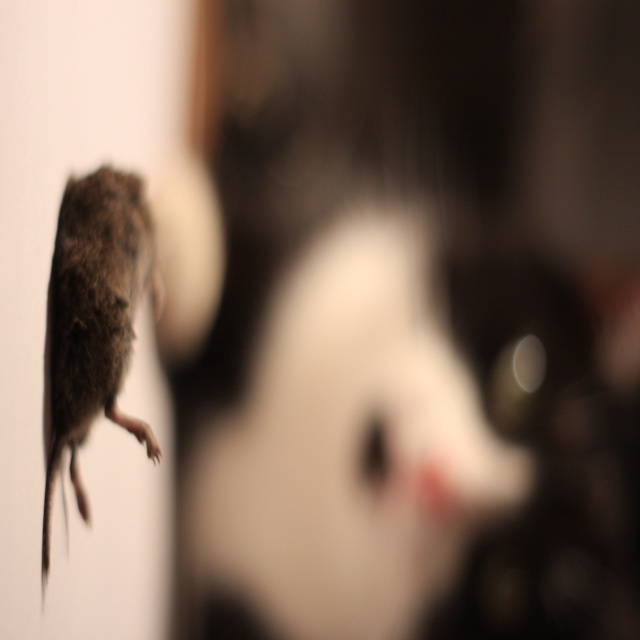Mouse: (42, 166, 164, 577)
